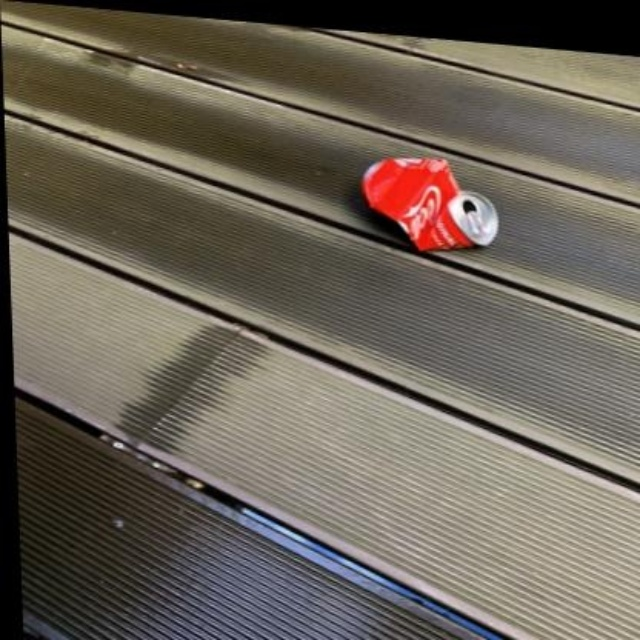trash: (362, 158, 497, 249)
